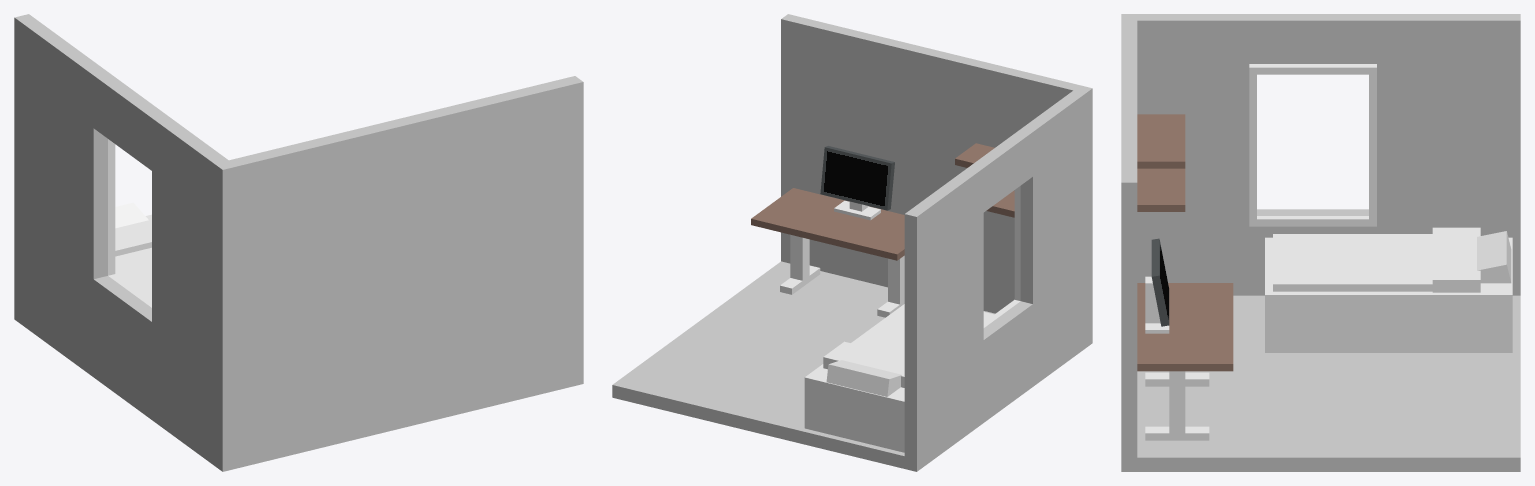
File: room.gltf
The picture shows the model from 3 angles, left to right: view 1: azimuth 30°, elevation 25°; view 2: azimuth 150°, elevation 25°; view 3: azimuth 270°, elevation 25°; orthographic projection. The views are drawn at different scales.
Visible parts, largest first — view 1: Wall (×5), cube (×4); view 2: Wall (×5), Floor, cube (×10); view 3: Wall (×5), cube (×16), Floor.
Part boxes in pixels (bbox=[...]): Wall (×5): bbox=[14, 14, 583, 471]; cube (×4): bbox=[108, 139, 151, 300]; Wall (×5): bbox=[781, 14, 1092, 471]; Floor: bbox=[612, 261, 994, 468]; cube (×10): bbox=[751, 143, 1020, 452]; Wall (×5): bbox=[1121, 14, 1520, 471]; cube (×16): bbox=[1137, 64, 1512, 440]; Floor: bbox=[1137, 295, 1520, 471].
Size of the model in its own units: 3.13 by 2.5 by 3.13.
8 materials, 2 textured.
